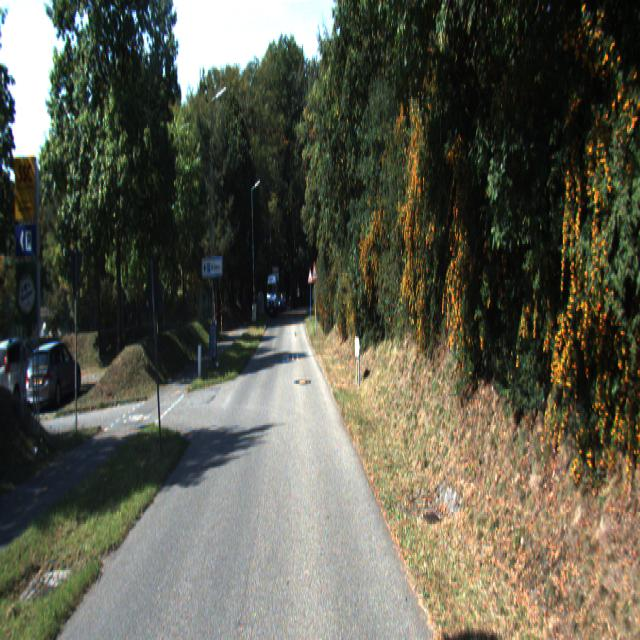Car: (25, 340, 83, 413), (0, 337, 50, 416)
